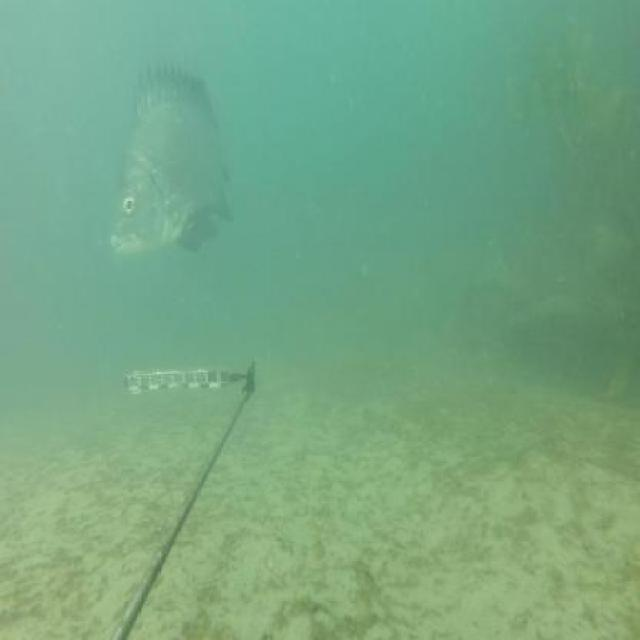acanthopagrus_palmaris: (106, 61, 237, 265)
